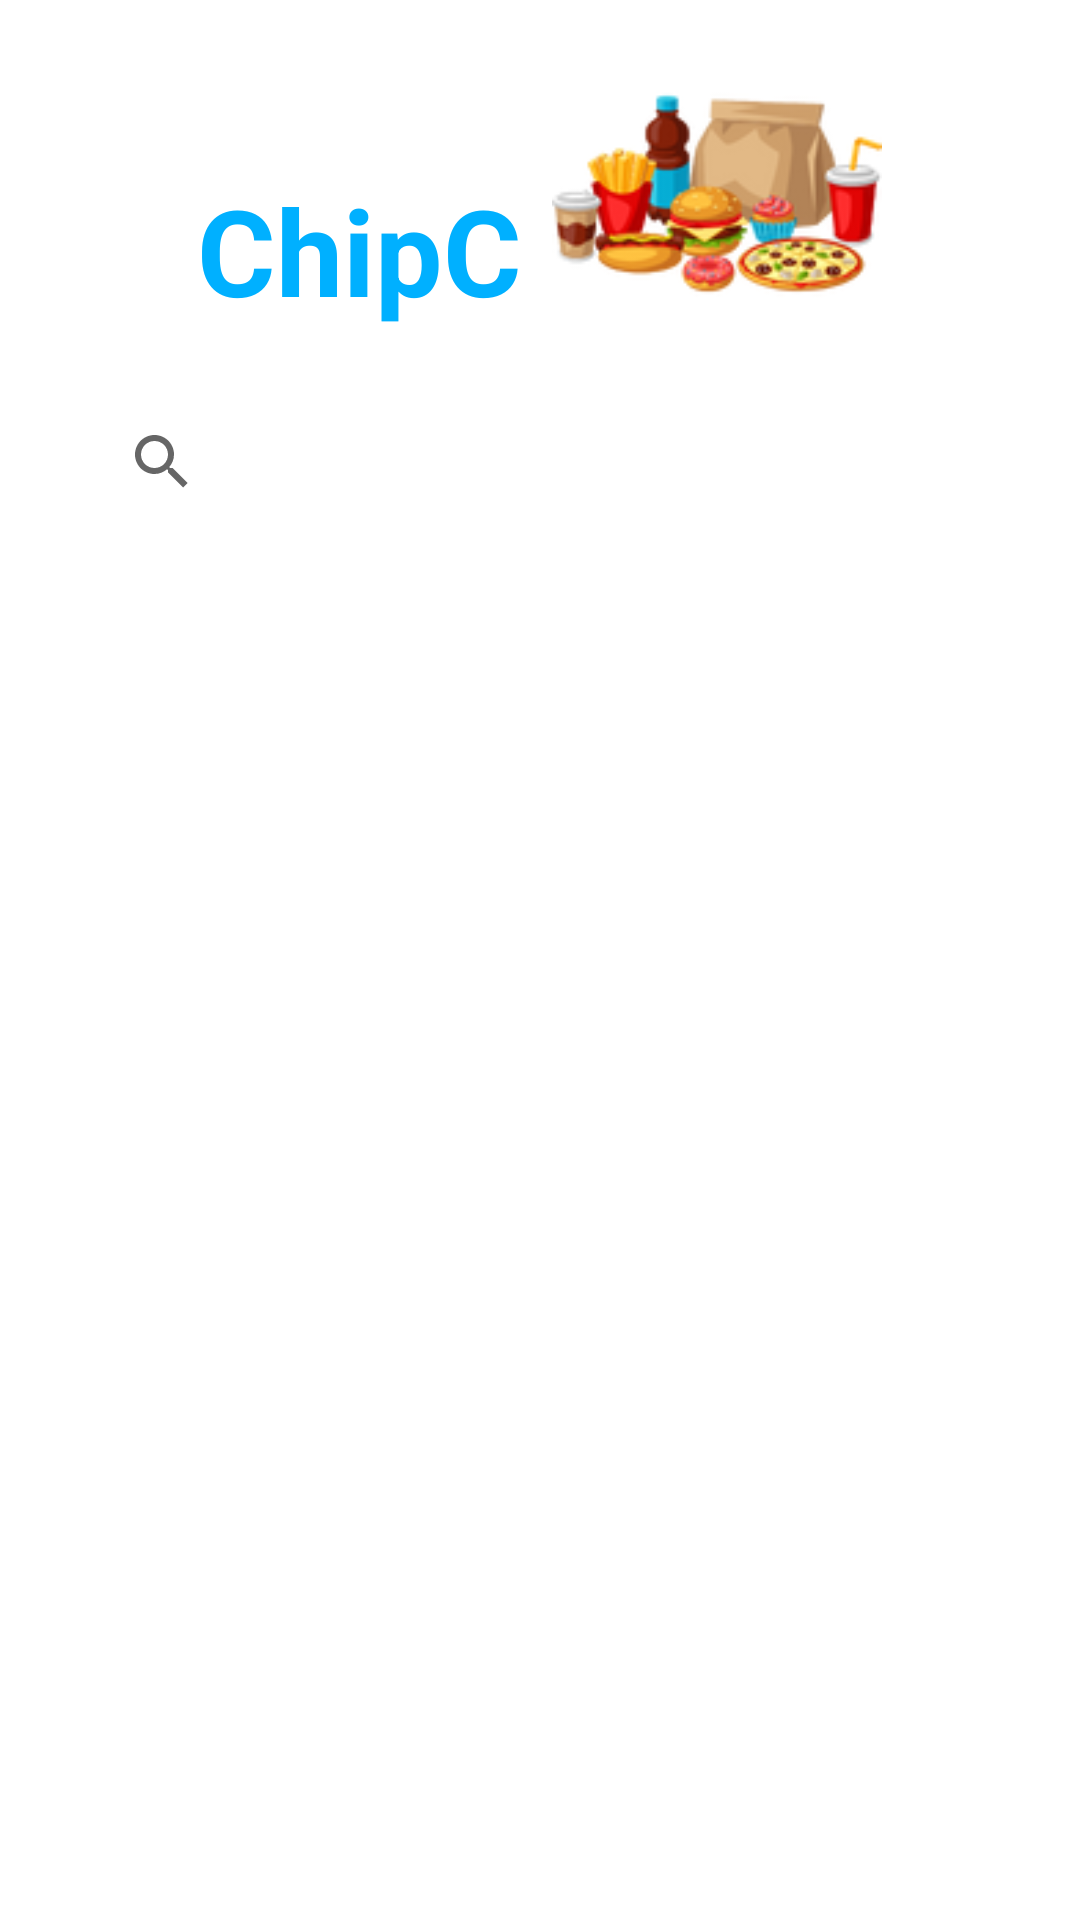

Locate icon controls on the screen. Image size 1080px x 1920px, boxes as BBox(x1, y1, x2, y2).
fastfood: BBox(552, 95, 882, 292)
